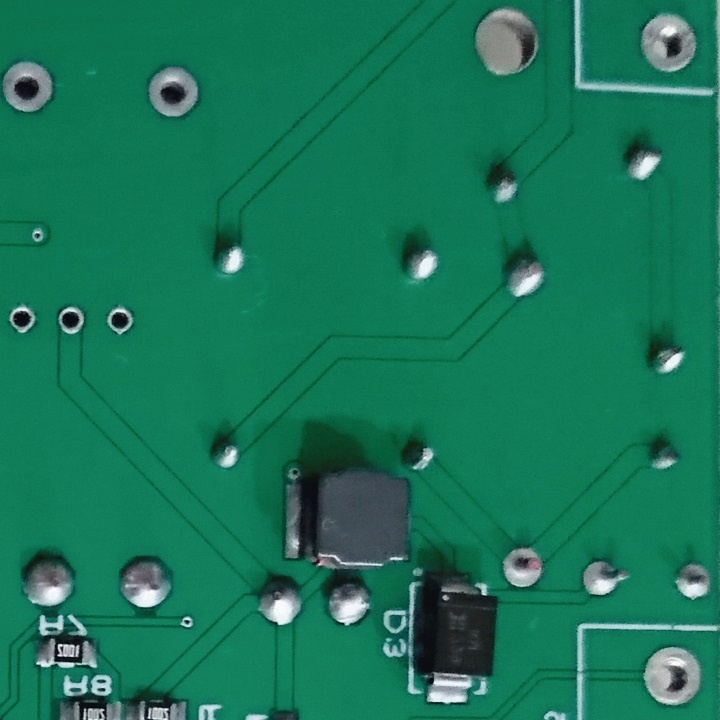F: (636, 9, 704, 80), (639, 642, 704, 709), (144, 62, 207, 124), (1, 57, 58, 118), (501, 545, 550, 593), (581, 558, 635, 601), (671, 559, 713, 605), (5, 300, 42, 339), (105, 303, 136, 340), (56, 304, 87, 340)
